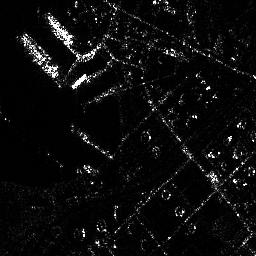ship: (19, 32, 59, 78), (43, 12, 76, 45)
